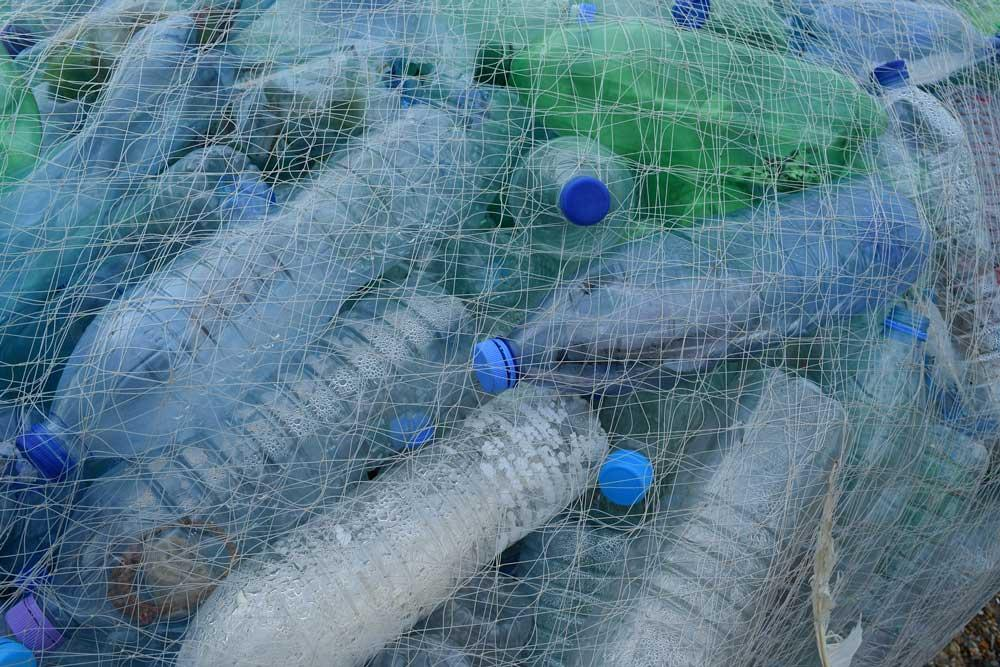plastic: (80, 386, 626, 667), (466, 179, 951, 379), (603, 366, 825, 667)
